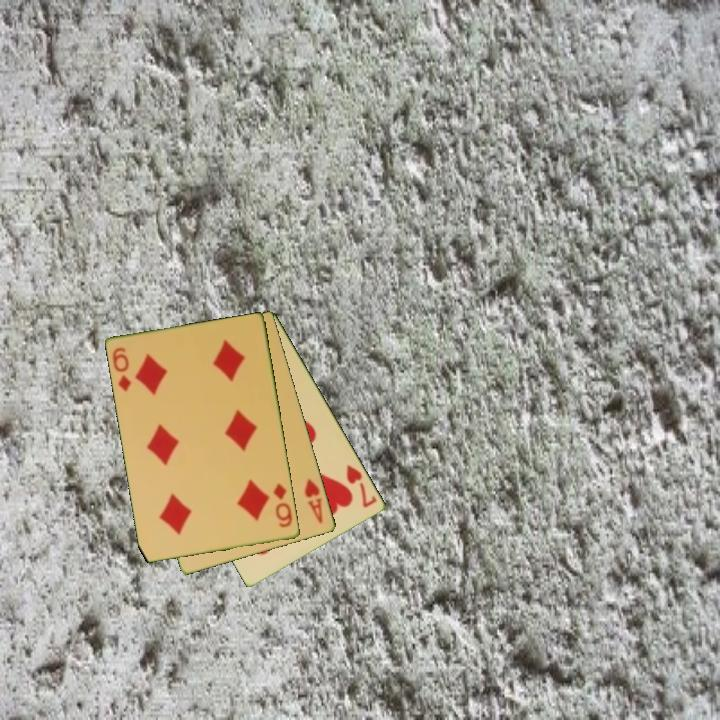6d: (270, 480, 295, 531), (109, 344, 134, 395)
7h: (343, 461, 380, 511)
Ah: (301, 475, 326, 527)
